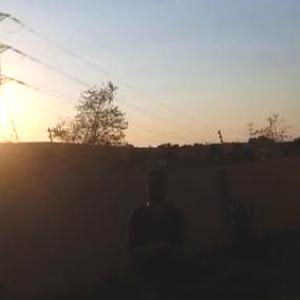follow: (122, 155, 196, 299)
